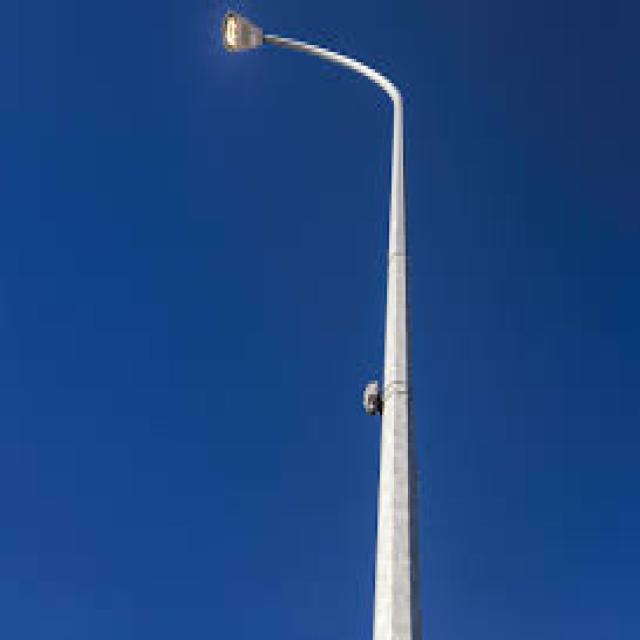Street Light: (218, 7, 420, 640)
